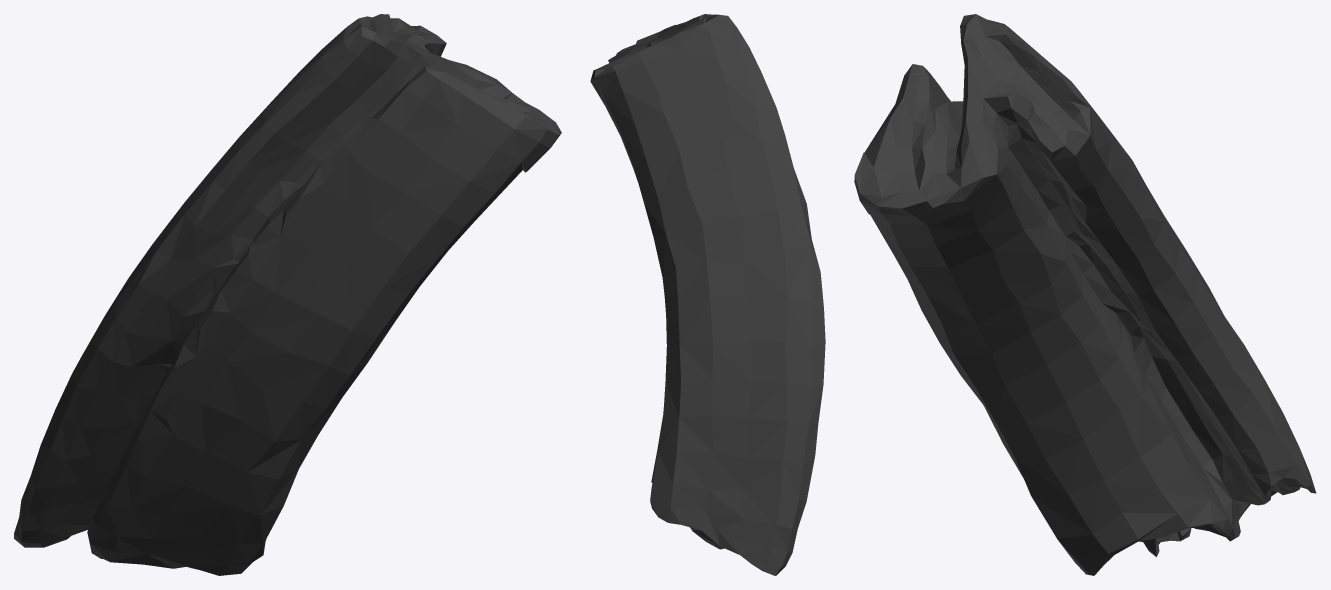
File: Lower_PM.glb
The picture shows the model from 3 angles, left to right: view 1: azimuth 30°, elevation 25°; view 2: azimuth 150°, elevation 25°; view 3: azimuth 270°, elevation 25°; orthographic projection. The views are drawn at different scales.
Parts seen in each view (by area): view 1: Lower_PM; view 2: Lower_PM; view 3: Lower_PM.
Part boxes in pixels (x1,y1,x2,y2): Lower_PM: [14, 14, 561, 575]; Lower_PM: [590, 14, 825, 575]; Lower_PM: [854, 14, 1316, 575].
Size of the model in its own units: 0.5562 by 0.8061 by 0.5642.
1 material, 1 textured.
